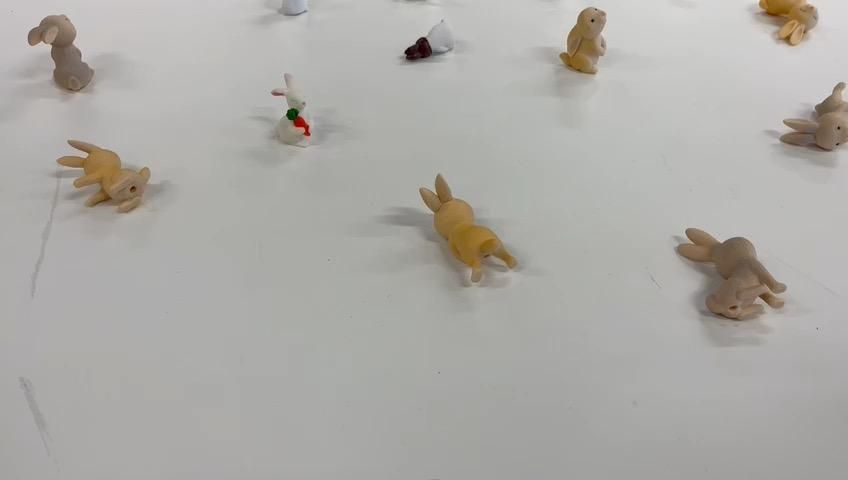pet: (408, 167, 526, 295), (668, 217, 794, 332), (49, 130, 155, 218), (21, 1, 101, 98), (771, 80, 848, 164), (561, 0, 623, 84), (268, 74, 326, 152), (749, 0, 826, 54), (397, 15, 462, 67)
